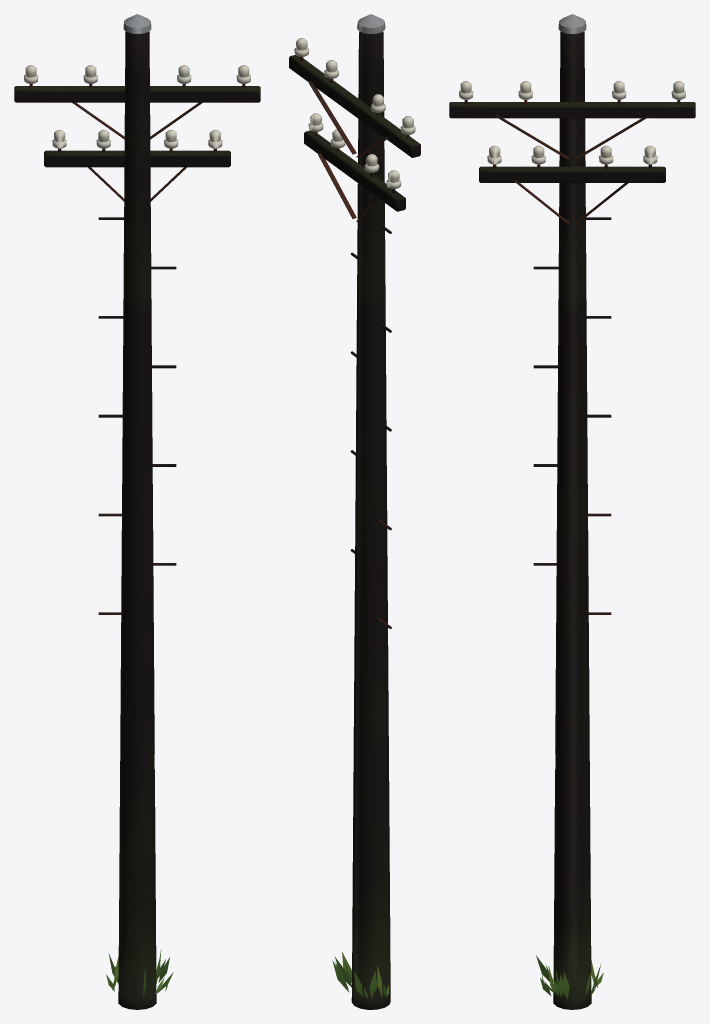
Rendered from telegraph_pole.glb.
3 renders of one model, left to right at view 1: azimuth 90°, elevation 25°; view 2: azimuth 210°, elevation 25°; view 3: azimuth 270°, elevation 25°, orthographic.
Parts seen in each view (by area): view 1: Body, Grass; view 2: Body, Grass; view 3: Body, Grass.
Boxes of the visible parts, <box> form: Body: <box>14,14,260,1009</box>; Grass: <box>106,949,173,997</box>; Body: <box>289,14,420,1009</box>; Grass: <box>332,952,388,999</box>; Body: <box>449,14,695,1009</box>; Grass: <box>536,955,603,998</box>.
Bounding box in the file's own units: 0.4951 × 8.4 × 1.9.
